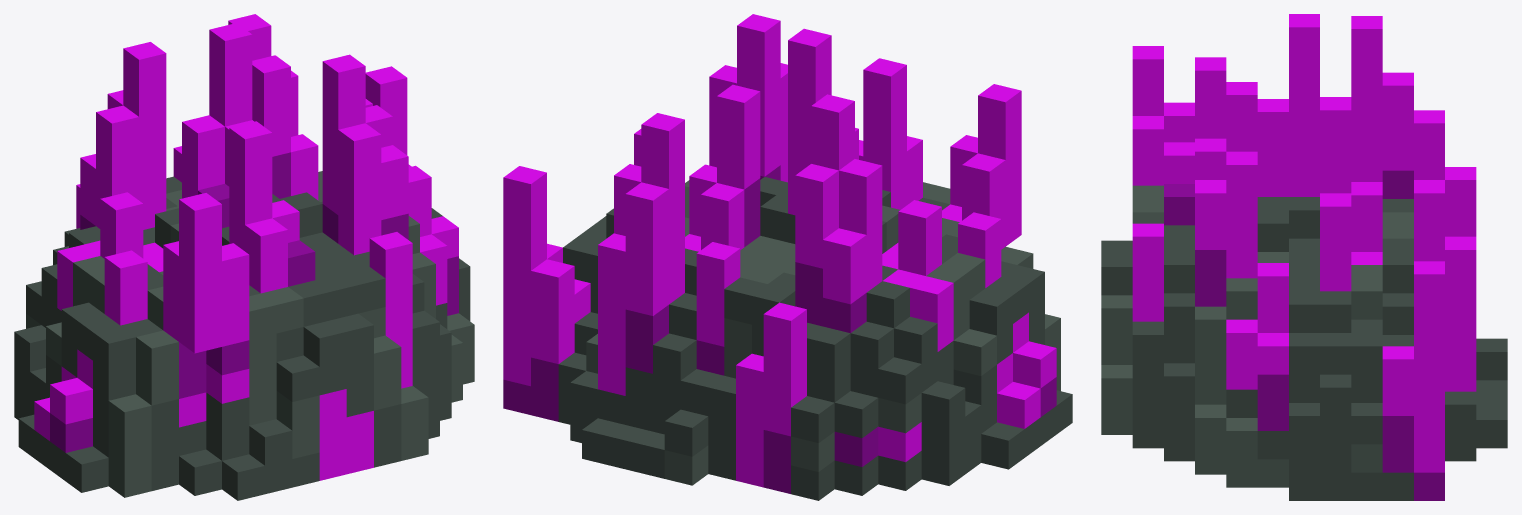
File: BismuthDeposit_L.obj
The picture shows the model from 3 angles, left to right: view 1: azimuth 30°, elevation 25°; view 2: azimuth 150°, elevation 25°; view 3: azimuth 270°, elevation 25°; orthographic projection.
Visible parts, largest first — view 1: BismuthDeposit_L; view 2: BismuthDeposit_L; view 3: BismuthDeposit_L.
Part boxes in pixels (left/top/right/bottom): BismuthDeposit_L: left=14, top=14, right=474, bottom=500; BismuthDeposit_L: left=503, top=14, right=1072, bottom=500; BismuthDeposit_L: left=1101, top=14, right=1507, bottom=500.
Size of the model in its own units: 1.6 by 1.3 by 1.3.
1 material, 1 textured.
